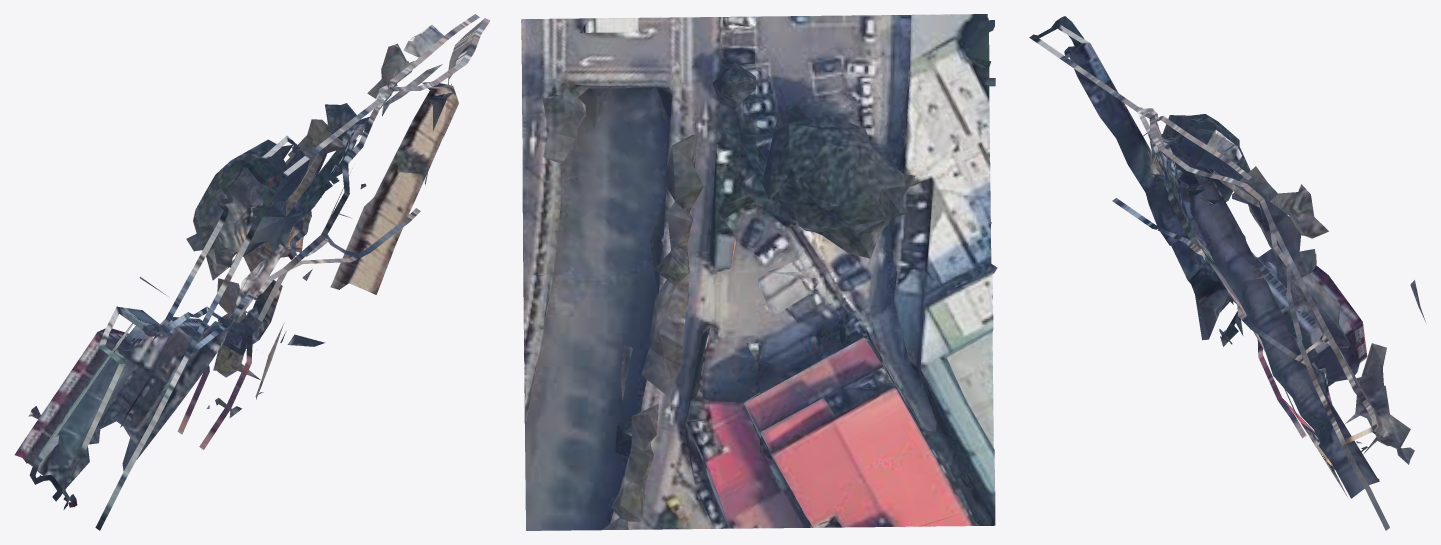
3 renders of one model, left to right at view 1: azimuth 30°, elevation 25°; view 2: azimuth 150°, elevation 25°; view 3: azimuth 270°, elevation 25°, orthographic. The views are drawn at different scales.
Bounding box in the file's own units: 83.31 × 73.66 × 66.96.
Materials: 1 (1 with a texture image).
